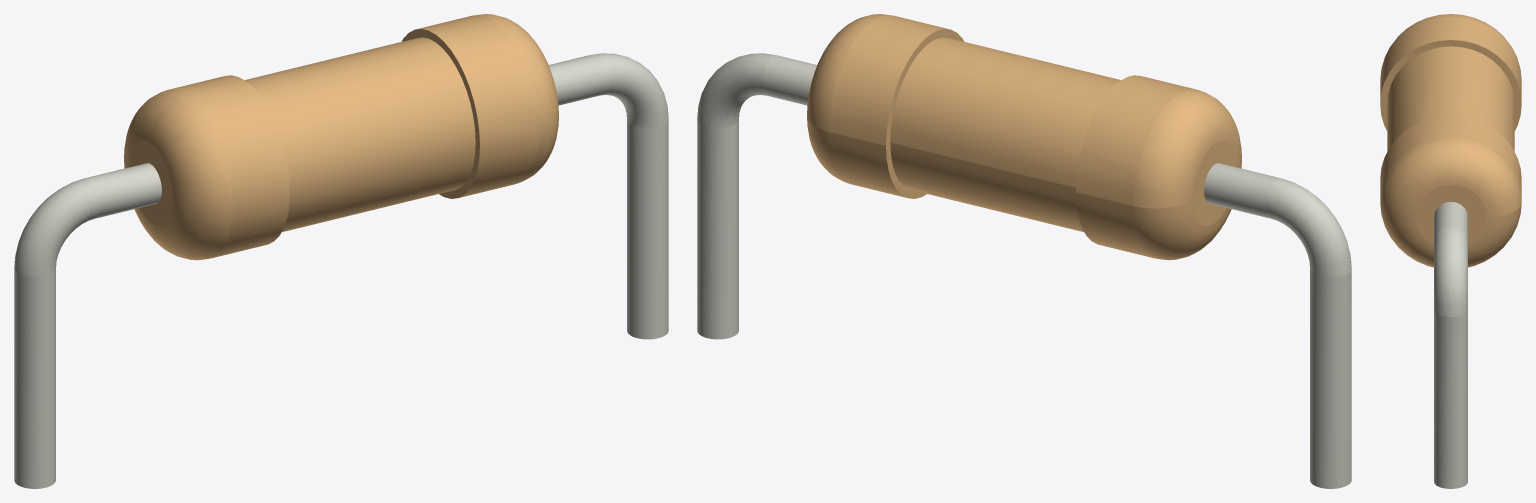
Rendered from resistor-axial.glb.
3 views of the same model, side by side, from view 1: azimuth 30°, elevation 25°; view 2: azimuth 150°, elevation 25°; view 3: azimuth 270°, elevation 25° (orthographic). The views are drawn at different scales.
Visible parts, largest first — view 1: resistor-axial; view 2: resistor-axial; view 3: resistor-axial.
Boxes of the visible parts, x1=… form: resistor-axial: x1=14, y1=14, x2=668, y2=488; resistor-axial: x1=697, y1=14, x2=1351, y2=488; resistor-axial: x1=1380, y1=14, x2=1521, y2=488.
Bounding box in the file's own units: 10.76 × 5.5 × 2.5.
